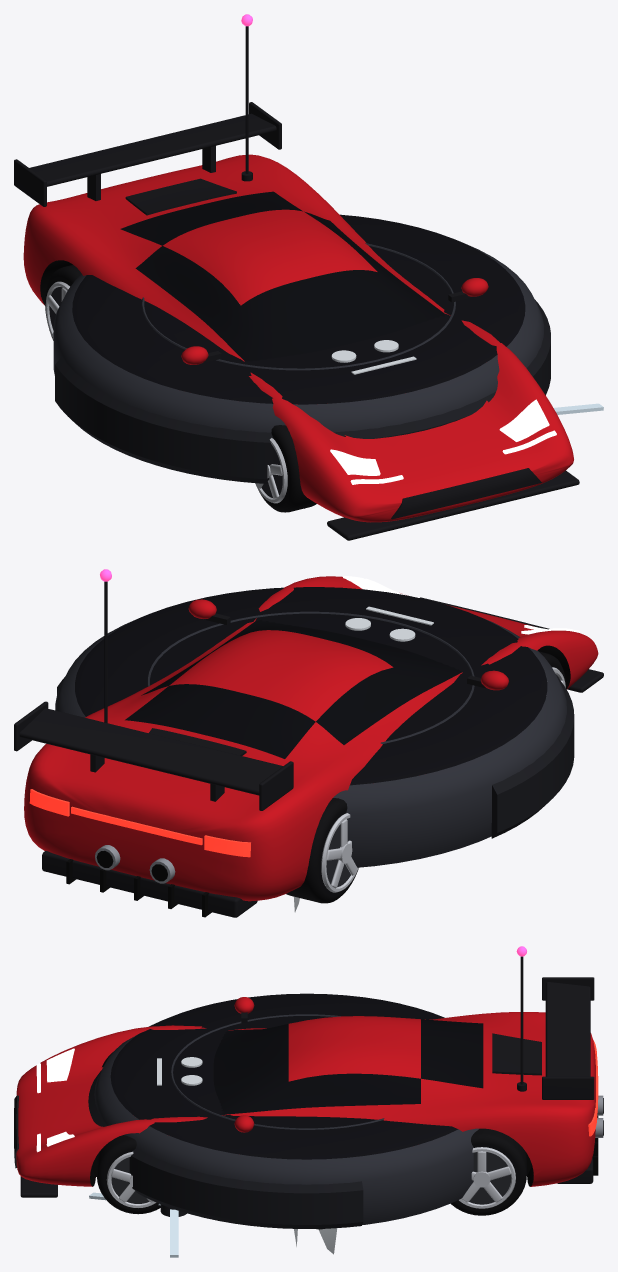
The model's file is toys.glb.
The picture shows the model from 3 angles, top to bottom: view 1: azimuth 30°, elevation 25°; view 2: azimuth 150°, elevation 25°; view 3: azimuth 270°, elevation 25°; orthographic projection. The views are drawn at different scales.
Parts seen in each view (by area): view 1: Rari_Body, Vac_Body, Rari_WheelFL, Rari_Lights, Rari_WheelRL, Rari_Antenna; view 2: Rari_Body, Vac_Body, Rari_WheelRL, Rari_Tail, Rari_Antenna, Rari_Lights; view 3: Rari_Body, Vac_Body, Rari_WheelRR, Rari_WheelFR, Rari_Lights, Rari_Antenna, Vac_Brush.
Part boxes in pixels (bbox=[...]): Rari_Body: bbox=[14, 102, 579, 540]; Vac_Body: bbox=[53, 214, 550, 483]; Rari_WheelFL: bbox=[255, 425, 316, 512]; Rari_Lights: bbox=[330, 399, 556, 484]; Rari_WheelRL: bbox=[45, 265, 81, 340]; Rari_Antenna: bbox=[241, 14, 252, 181]; Rari_Body: bbox=[14, 576, 603, 917]; Vac_Body: bbox=[55, 587, 574, 867]; Rari_WheelRL: bbox=[286, 798, 358, 903]; Rari_Tail: bbox=[29, 789, 250, 857]; Rari_Antenna: bbox=[100, 569, 111, 722]; Rari_Lights: bbox=[343, 576, 579, 634]; Rari_Body: bbox=[14, 977, 603, 1197]; Vac_Body: bbox=[88, 993, 478, 1229]; Rari_WheelRR: bbox=[450, 1128, 526, 1215]; Rari_WheelFR: bbox=[97, 1135, 160, 1214]; Rari_Lights: bbox=[36, 1048, 74, 1152]; Rari_Antenna: bbox=[516, 946, 526, 1091]; Vac_Brush: bbox=[89, 1192, 186, 1257].
Size of the model in its own units: 0.3555 by 0.2988 by 0.4719.
